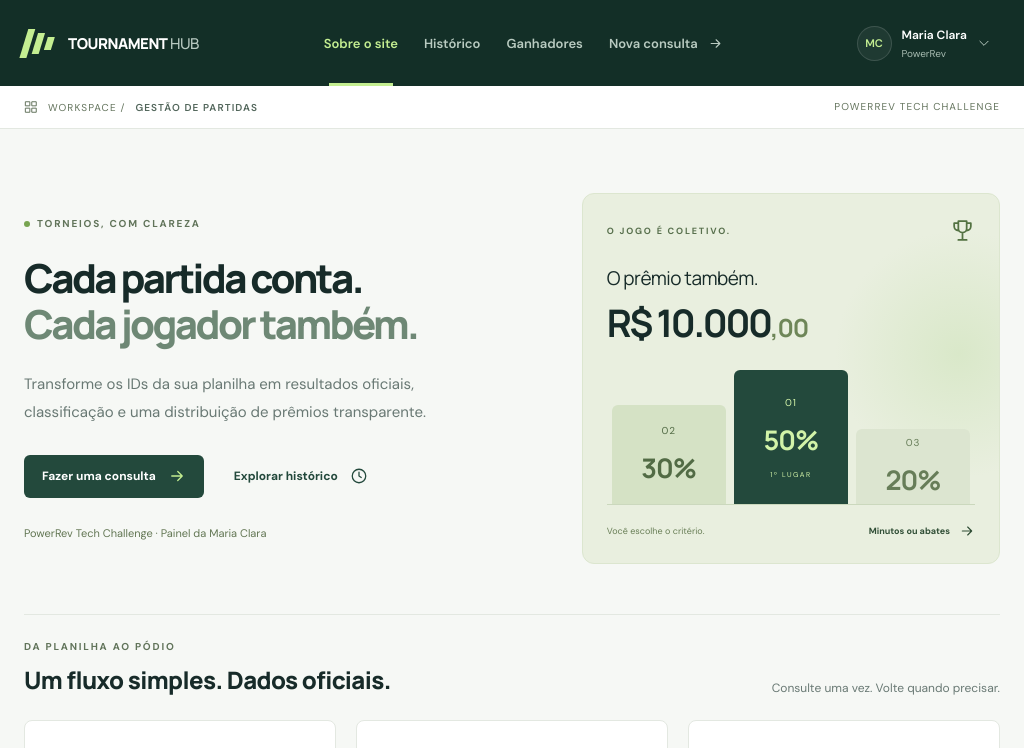
Test: consulta histórico no servidor e busca a próxima página
Click the button "Histórico": (452, 43) [411, 0, 493, 86]
(page scrolled)
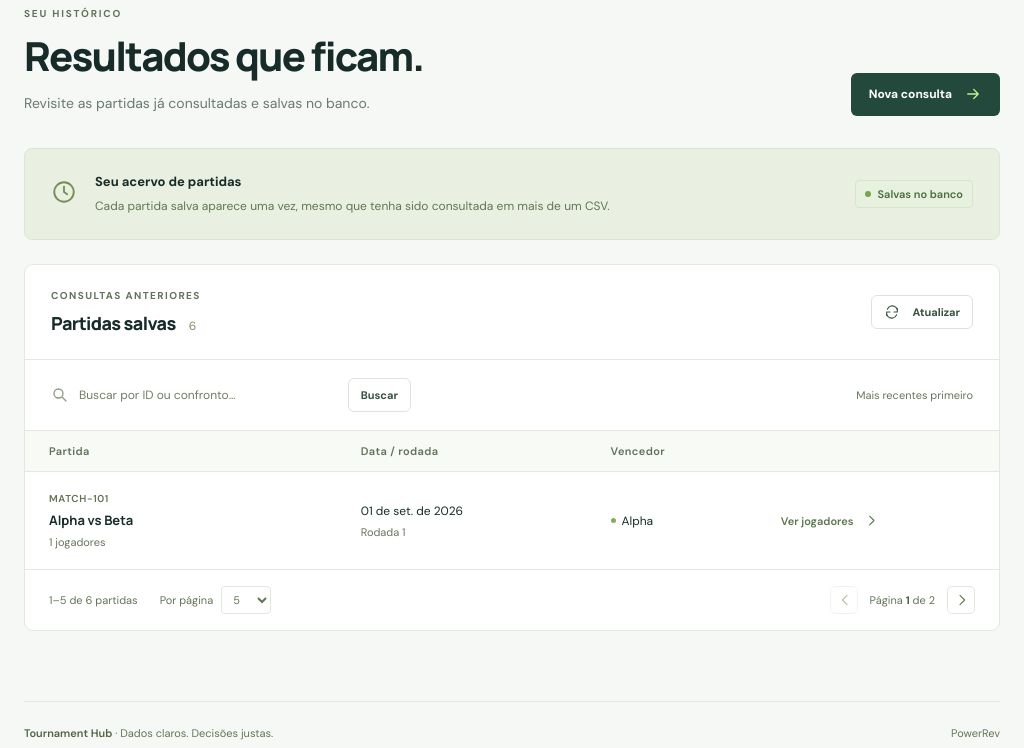
Click the button named "Próxima página": (961, 600) [947, 586, 975, 614]
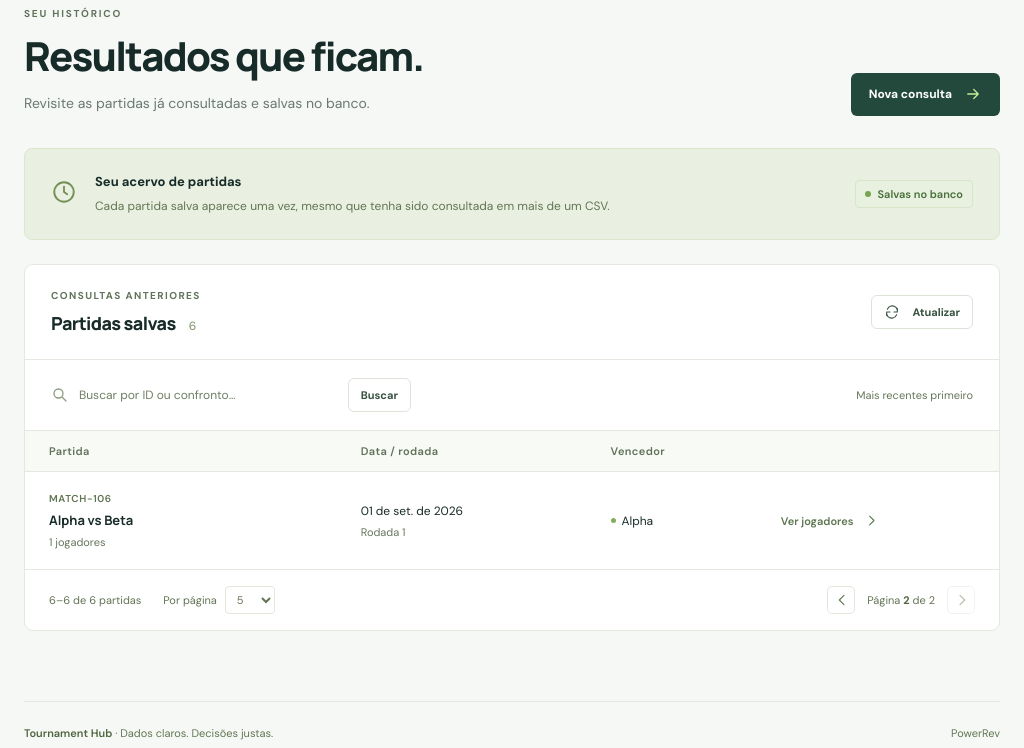
Result: the table shows "MATCH-106" at [49, 492, 112, 505]
